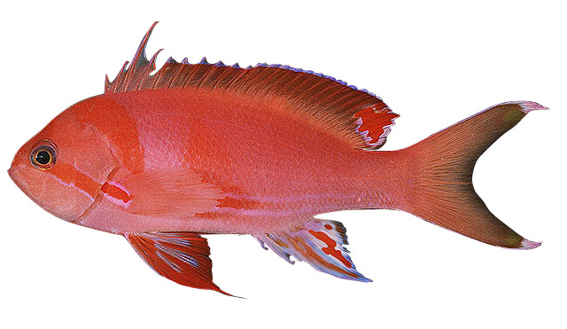fish: (8, 21, 551, 300)
